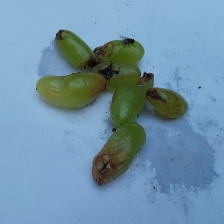grapes: (15, 46, 202, 189)
